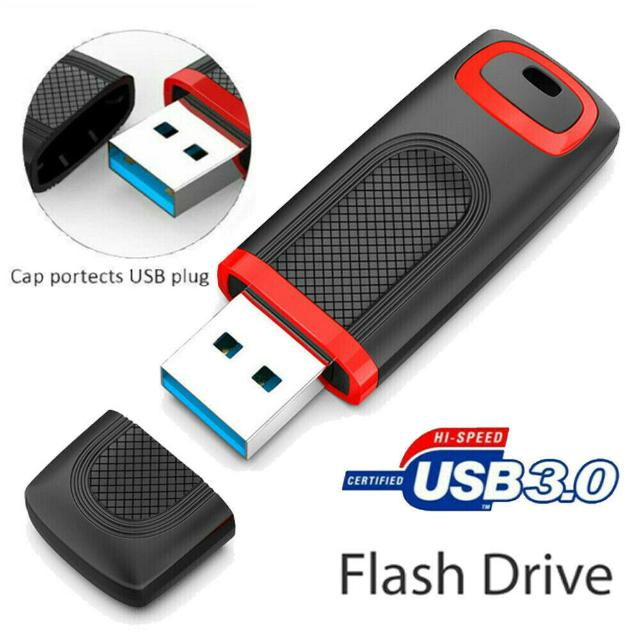USB-Flash-Drive: (162, 32, 621, 457)
